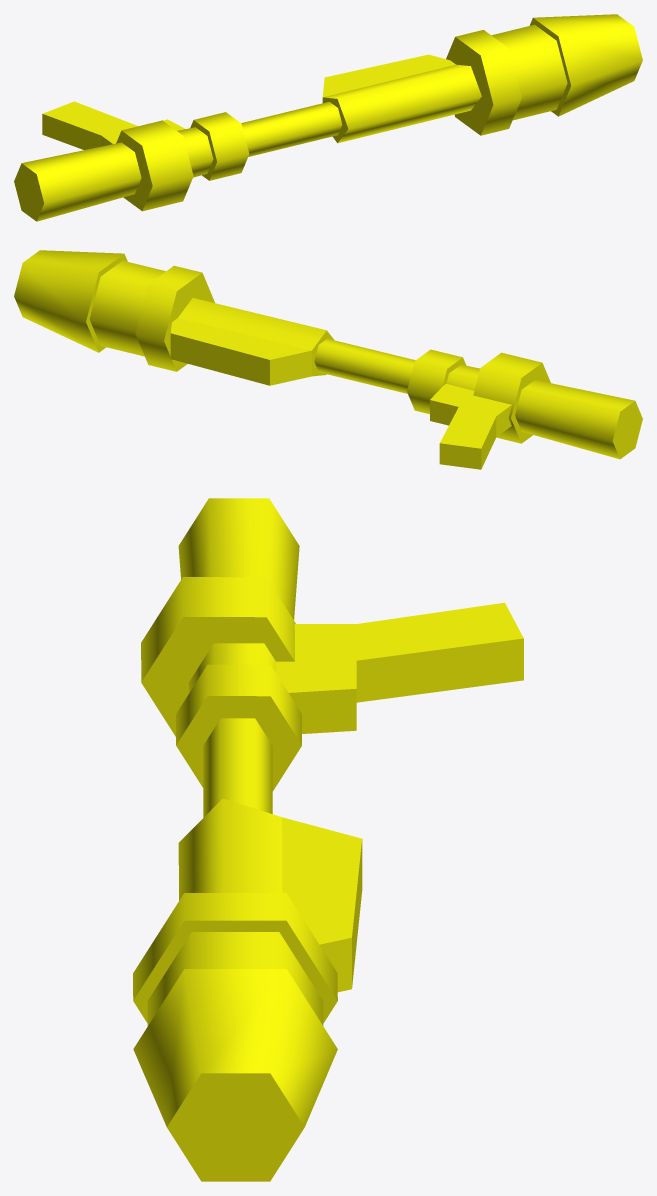
File: weapon_flamethrower.glb
3 views of the same model, one above another, from view 1: azimuth 30°, elevation 25°; view 2: azimuth 150°, elevation 25°; view 3: azimuth 270°, elevation 25° (orthographic). The views are drawn at different scales.
Visible parts, largest first — view 1: weapon_flamethrower; view 2: weapon_flamethrower; view 3: weapon_flamethrower.
Boxes of the visible parts, x1,y1,x2,y2 form: weapon_flamethrower: (14, 14, 642, 221); weapon_flamethrower: (14, 250, 642, 469); weapon_flamethrower: (133, 498, 523, 1181).
Size of the model in its own units: 1.51 by 0.1943 by 0.4283.
Materials: 1 (1 with a texture image).
